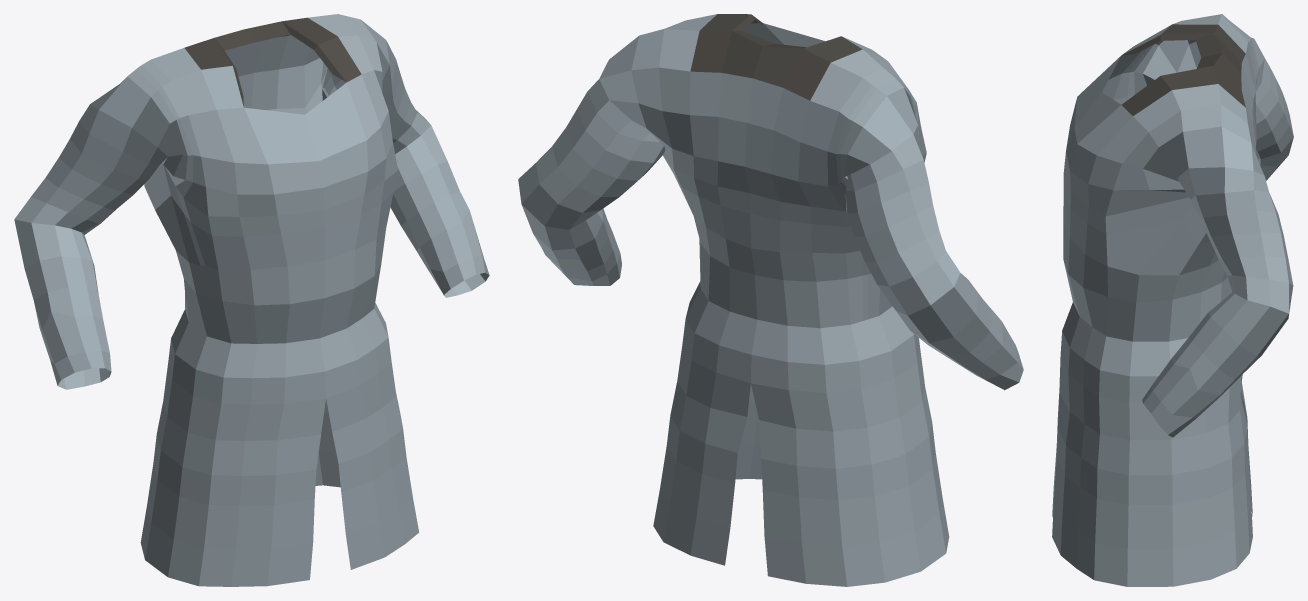
Rendered from Icon 4.fbx.
The picture shows the model from 3 angles, left to right: view 1: azimuth 30°, elevation 25°; view 2: azimuth 150°, elevation 25°; view 3: azimuth 270°, elevation 25°; orthographic projection. The views are drawn at different scales.
Parts seen in each view (by area): view 1: Leather 2 chest.003; view 2: Leather 2 chest.003; view 3: Leather 2 chest.003.
Boxes of the visible parts, x1,y1,x2,y2 form: Leather 2 chest.003: (14, 14, 489, 586); Leather 2 chest.003: (518, 14, 1023, 586); Leather 2 chest.003: (1052, 14, 1293, 586).
Bounding box in the file's own units: 88.25 × 95.3 × 43.71.
